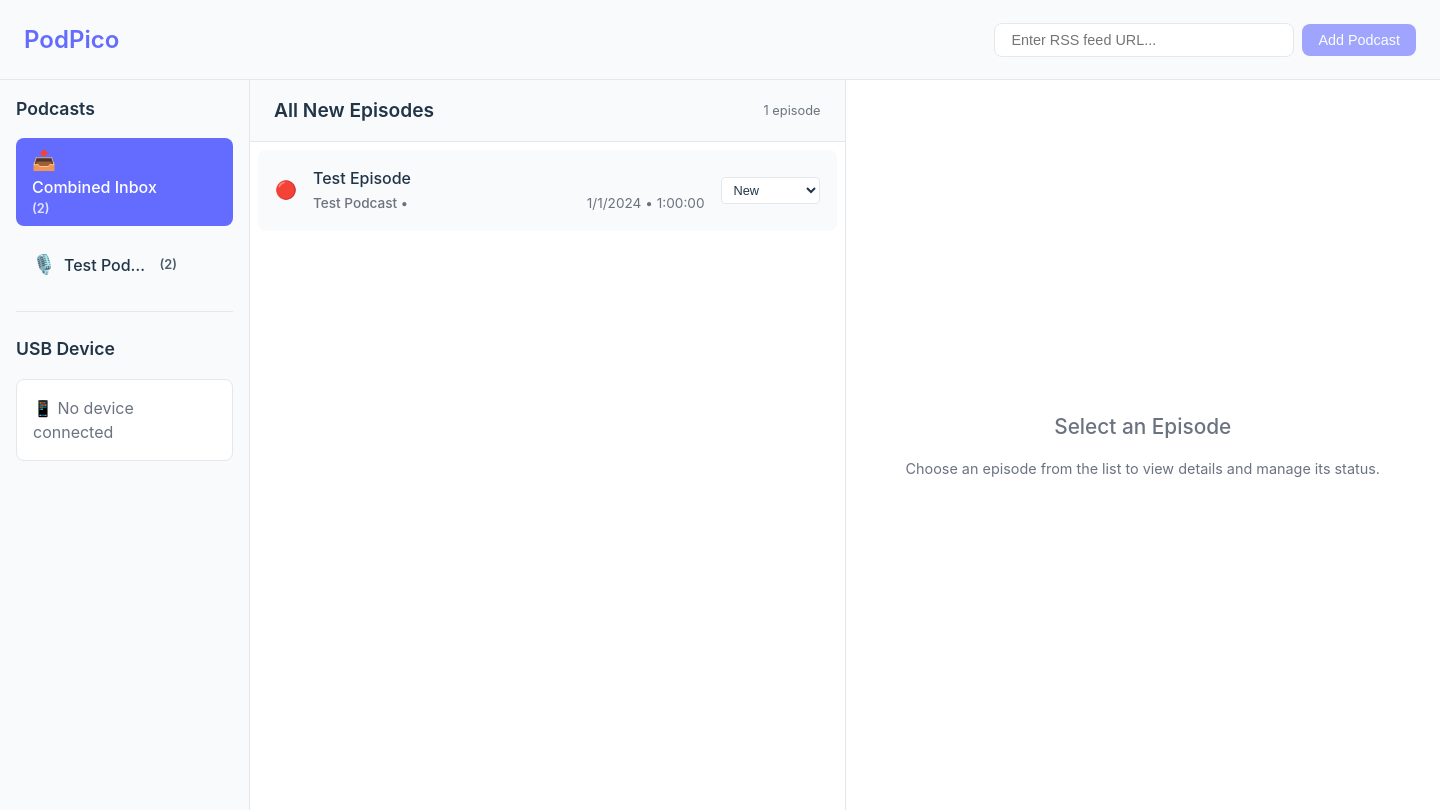
Scenario: App Component › User Story #12: Search for episodes within a podcast › shows clear button when search query is entered and clears search when clicked
Click the text "Test Podcast" at [108, 265], box [64,253,152,277]
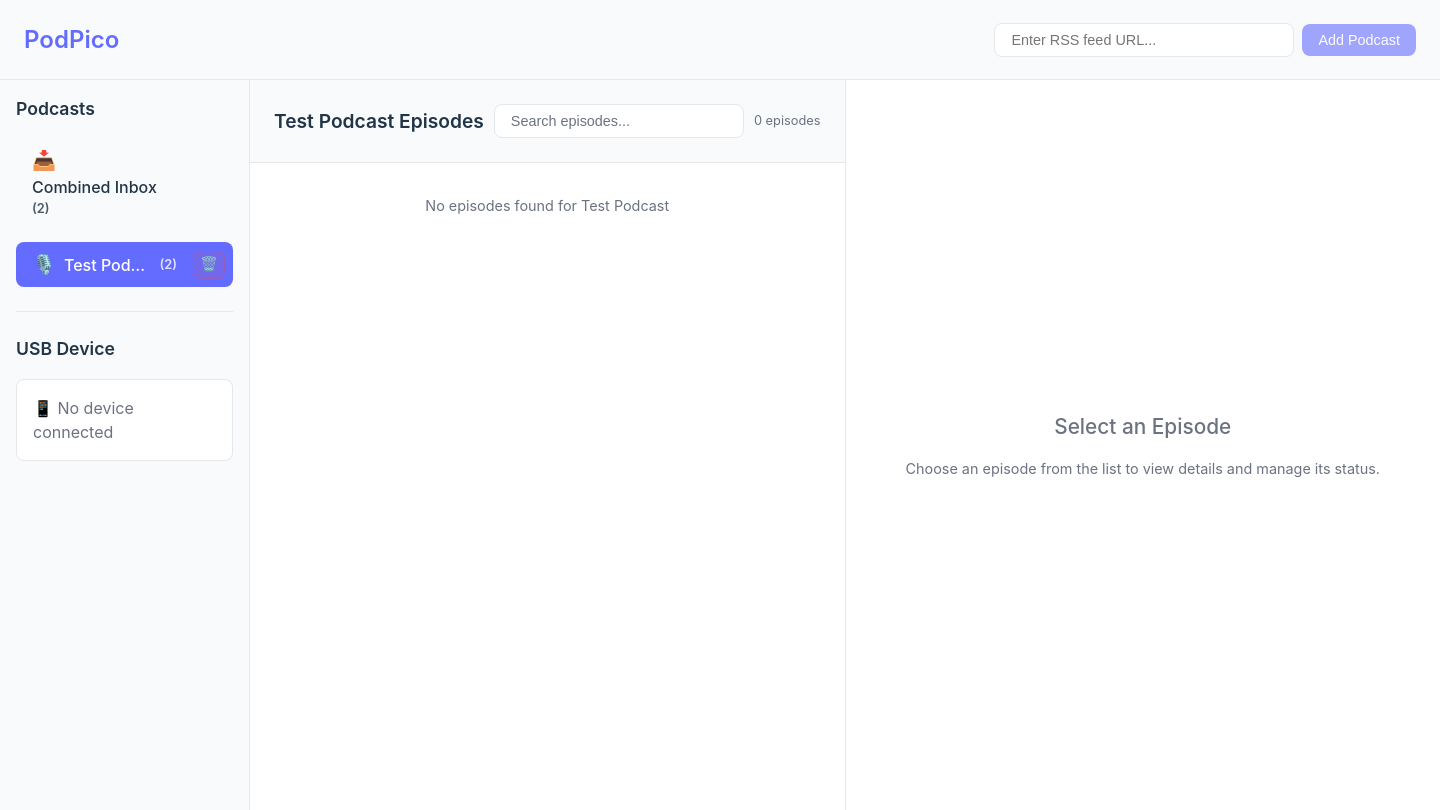
Expected: the field with placeholder "Search episodes..." is shown
# Enter search query
Type "test query" into the field with placeholder "Search episodes..." at [619, 121], box [494,104,744,138]
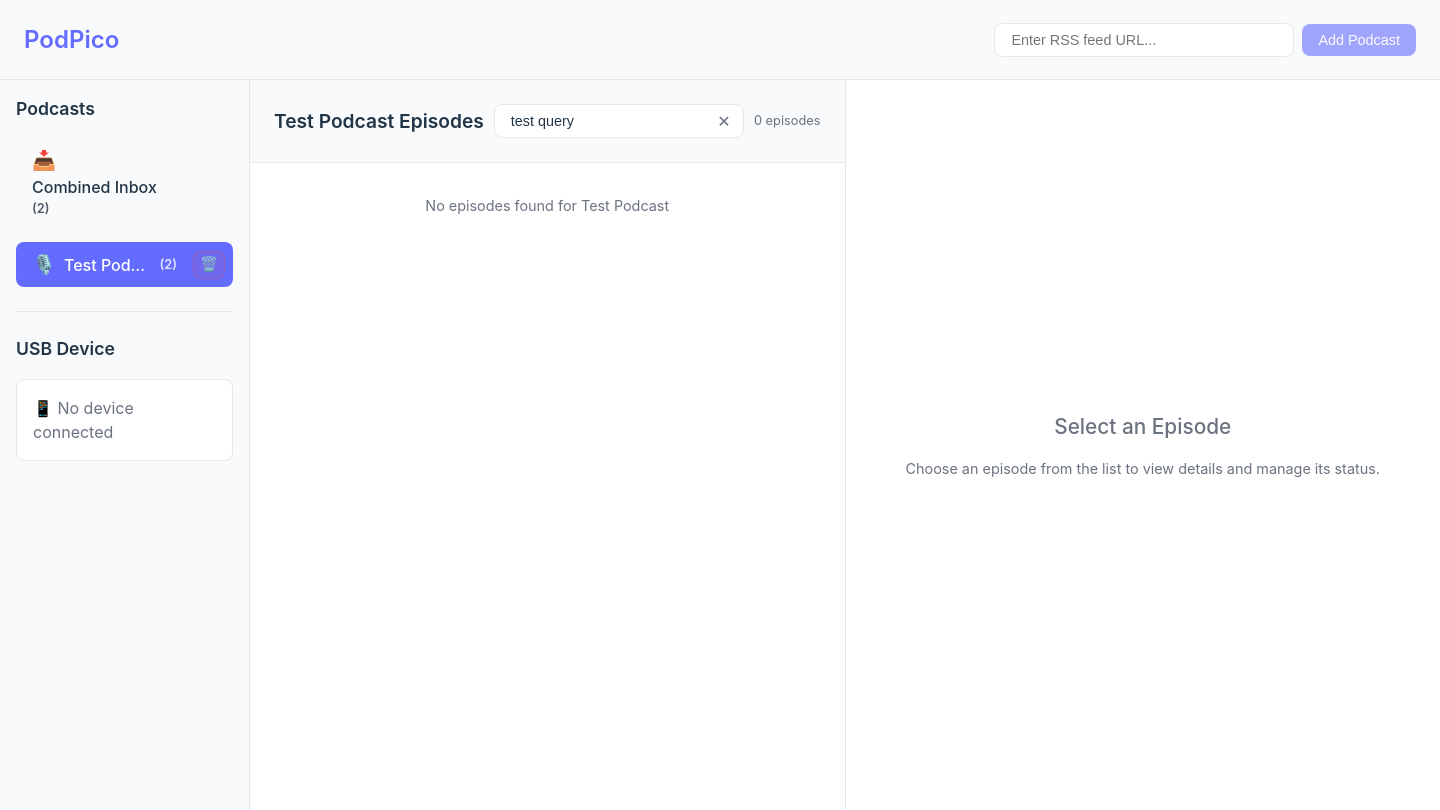
Expected: the button titled "Clear search" is shown
# Click clear button
Click the button titled "Clear search" at [724, 121], box [712,109,736,133]
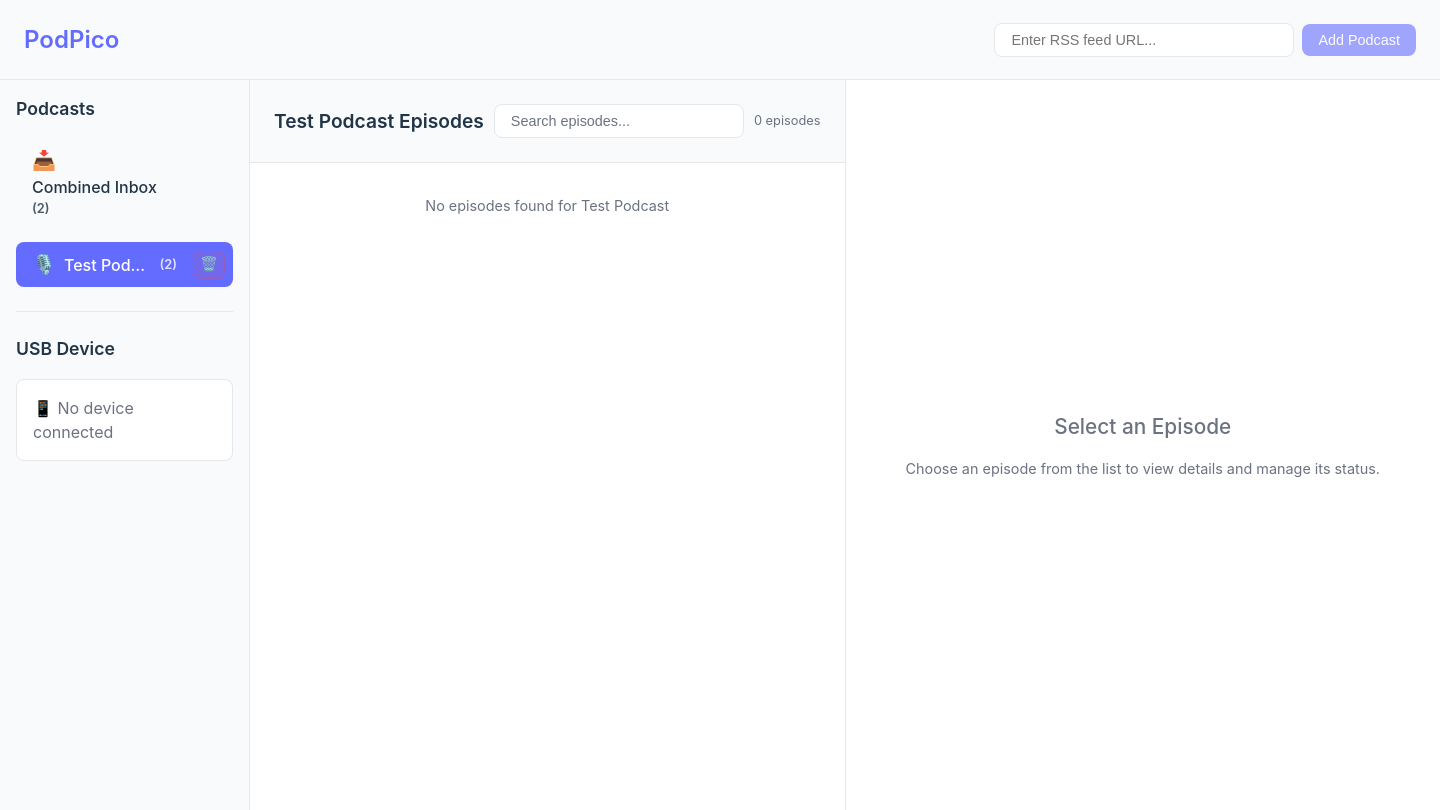
Expected: the field with placeholder "Search episodes..." is empty, [494,104,744,138]
